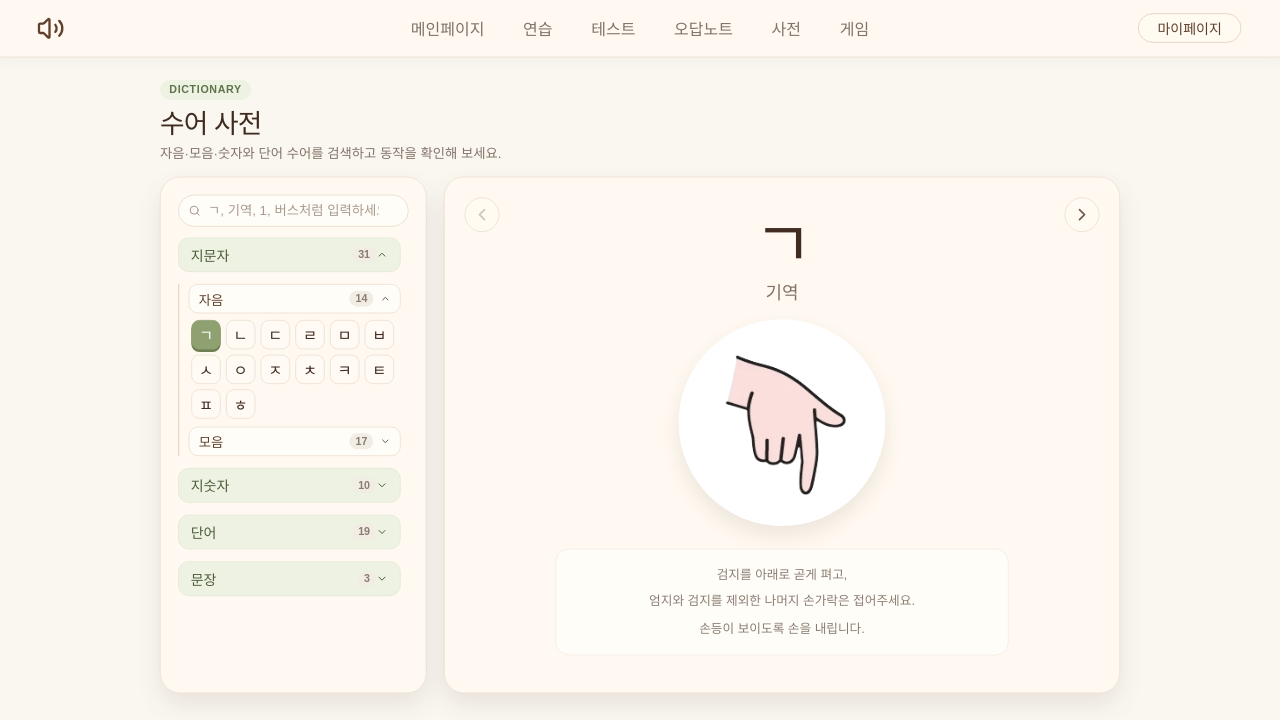
it: DictionaryPage 검색 › 단어를 검색하면 수어 동작 영상을 보여준다
Type "비행기" into the search field named "지문자 검색" at (293, 211), box [178, 195, 409, 227]
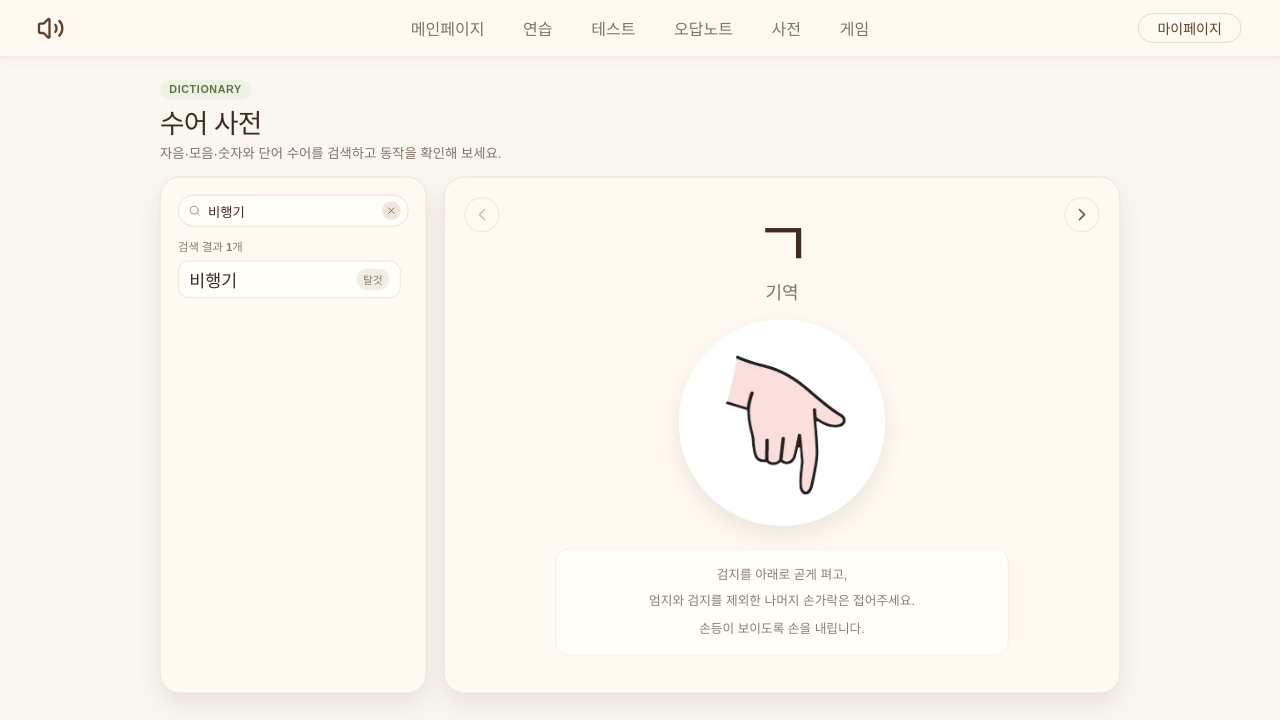
Click the button "비행기 탈것" at (289, 279), box [178, 261, 401, 298]
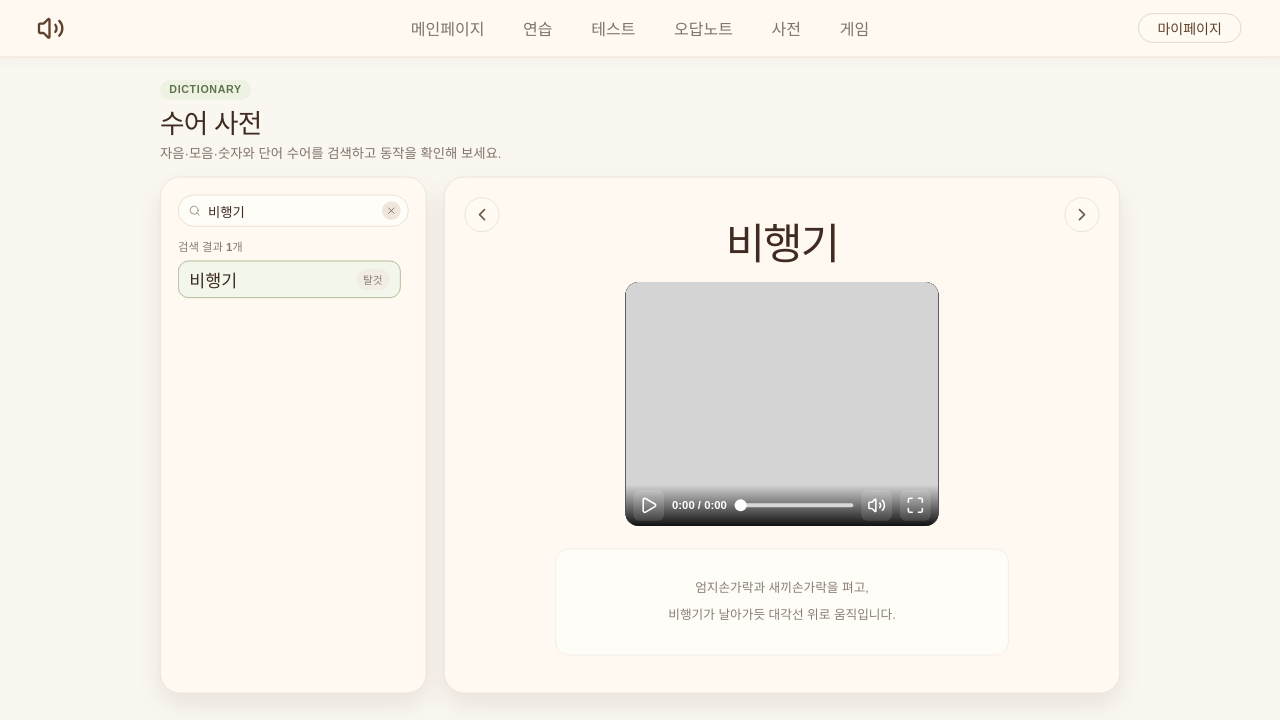
expect the text "비행기" is shown: met, box [189, 267, 237, 292]
expect the button named "영상 재생" is shown: met, box [633, 490, 664, 520]
expect the slider named "영상 재생 위치" is shown: met, box [735, 496, 853, 514]
